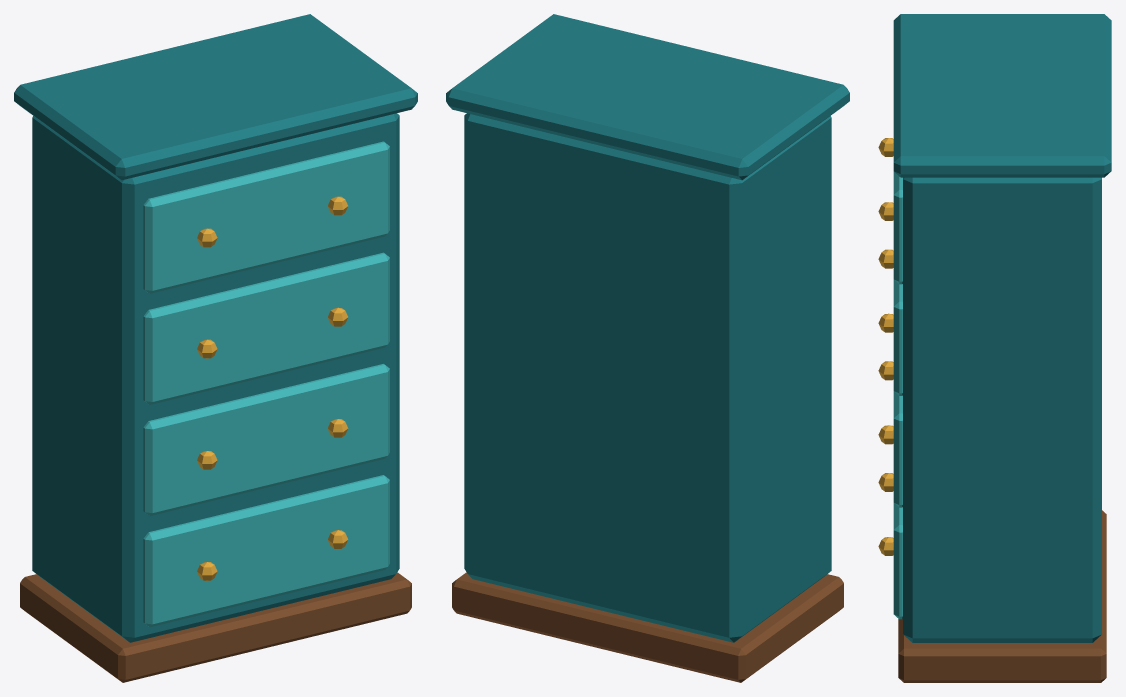
Rendered from tall_dresser.glb.
3 renders of one model, left to right at view 1: azimuth 30°, elevation 25°; view 2: azimuth 150°, elevation 25°; view 3: azimuth 270°, elevation 25°, orthographic.
Visible parts, largest first — view 1: tall_dresser, part_drawer_2, part_drawer_0, part_drawer_1, part_drawer_3; view 2: tall_dresser; view 3: tall_dresser, part_drawer_1, part_drawer_2, part_drawer_0, part_drawer_3.
Boxes of the visible parts, x1,y1,x2,y2 form: tall_dresser: (14,14,417,682); part_drawer_2: (143,252,389,404); part_drawer_0: (143,475,389,627); part_drawer_1: (143,364,389,515); part_drawer_3: (143,141,389,293); tall_dresser: (446,14,849,682); tall_dresser: (893,14,1111,682); part_drawer_1: (878,361,902,507); part_drawer_2: (878,249,902,395); part_drawer_0: (878,473,902,619); part_drawer_3: (878,138,902,284).
Bounding box in the file's own units: 0.74 × 1.23 × 0.492.
